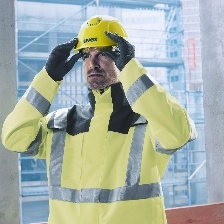helmet: (68, 18, 131, 56)
person: (22, 18, 197, 224)
vest: (31, 85, 195, 220)
